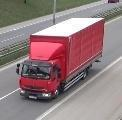Truck: (20, 18, 104, 101)
